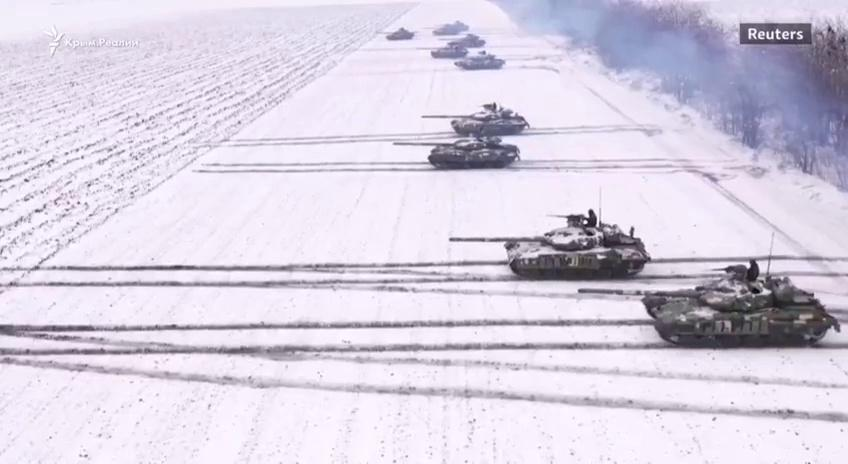tank: (578, 258, 842, 348), (449, 209, 652, 280), (392, 128, 520, 170), (420, 102, 530, 136), (453, 47, 507, 74), (414, 41, 469, 59), (426, 20, 471, 35), (439, 34, 486, 48), (376, 27, 414, 40)
